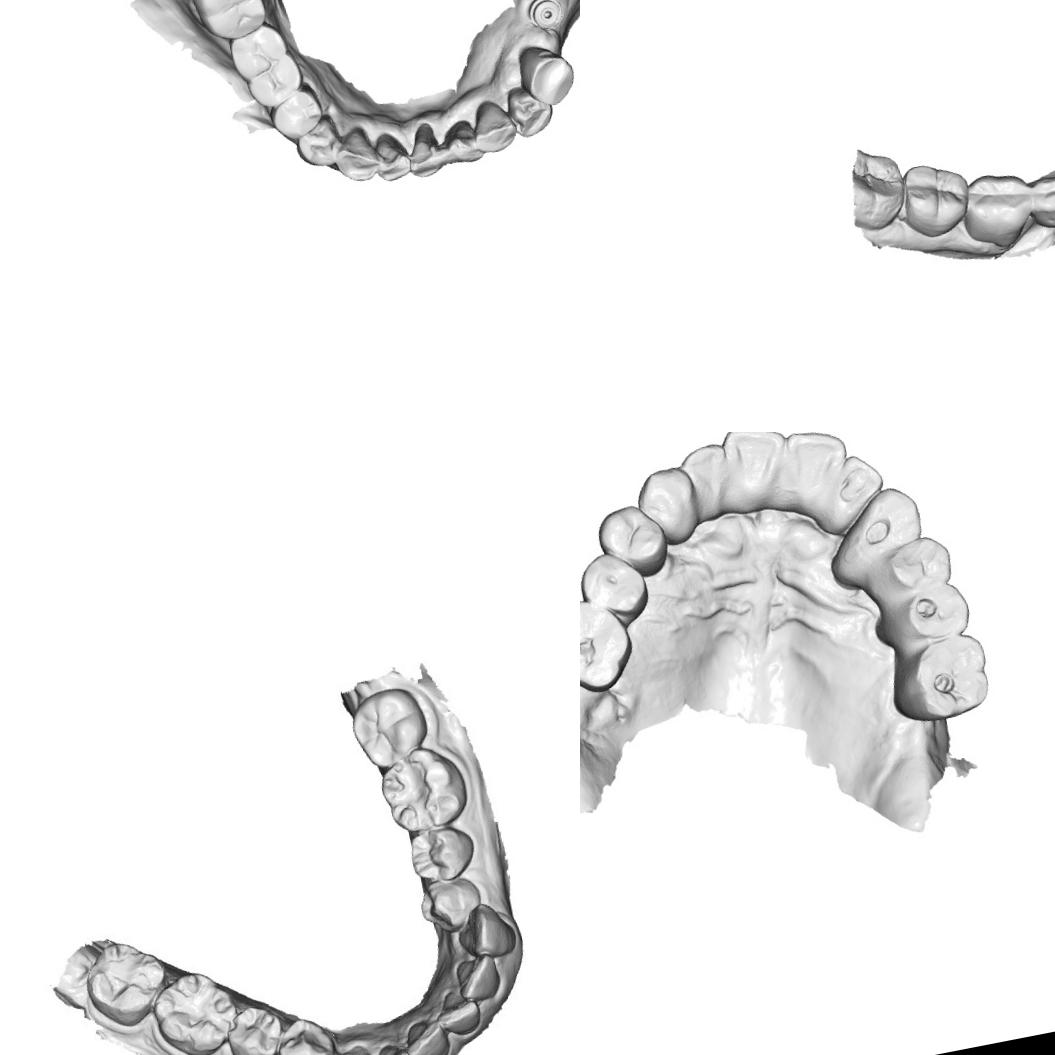canine: (832, 482, 927, 570), (630, 461, 704, 542), (455, 896, 522, 964), (466, 94, 521, 156), (330, 124, 382, 186), (320, 1042, 383, 1055)
implant: (523, 0, 565, 35)
incisor: (716, 432, 793, 496), (769, 432, 852, 491), (676, 440, 734, 509), (826, 448, 888, 510), (454, 950, 511, 1010), (402, 120, 446, 180), (436, 992, 488, 1041), (402, 1012, 460, 1055), (370, 126, 412, 184), (440, 114, 484, 168), (370, 1042, 419, 1055)
molar: (878, 628, 996, 730), (224, 15, 310, 114), (77, 936, 166, 1028), (953, 164, 1040, 256), (891, 154, 977, 244), (150, 966, 240, 1052), (378, 746, 466, 830), (350, 686, 434, 766), (580, 589, 638, 698), (177, 0, 272, 48)
premolar: (873, 575, 976, 652), (589, 497, 674, 584), (864, 528, 958, 600), (580, 546, 650, 625), (402, 820, 478, 889), (512, 37, 580, 112), (265, 80, 331, 144), (414, 872, 484, 928), (501, 78, 556, 141), (290, 113, 346, 172), (221, 1004, 283, 1055), (271, 1018, 337, 1055), (1024, 169, 1055, 232)
